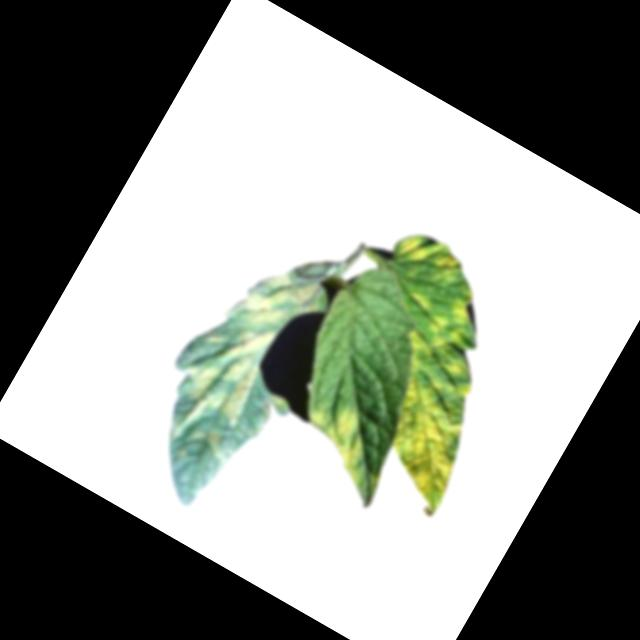Leaf_Mold: (140, 221, 338, 468), (360, 376, 492, 513), (290, 393, 390, 490), (403, 304, 465, 367), (430, 356, 482, 406), (387, 224, 435, 273), (424, 247, 470, 295), (448, 294, 483, 329)
